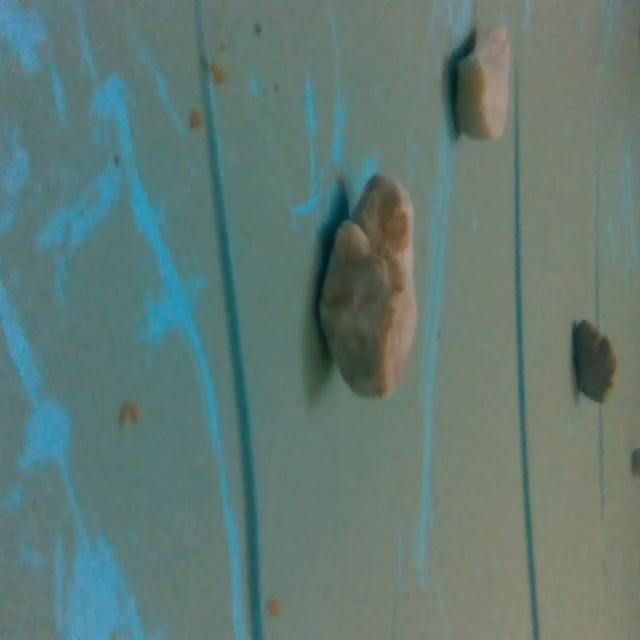rock: (314, 164, 424, 406), (446, 16, 518, 151), (564, 310, 618, 407)
